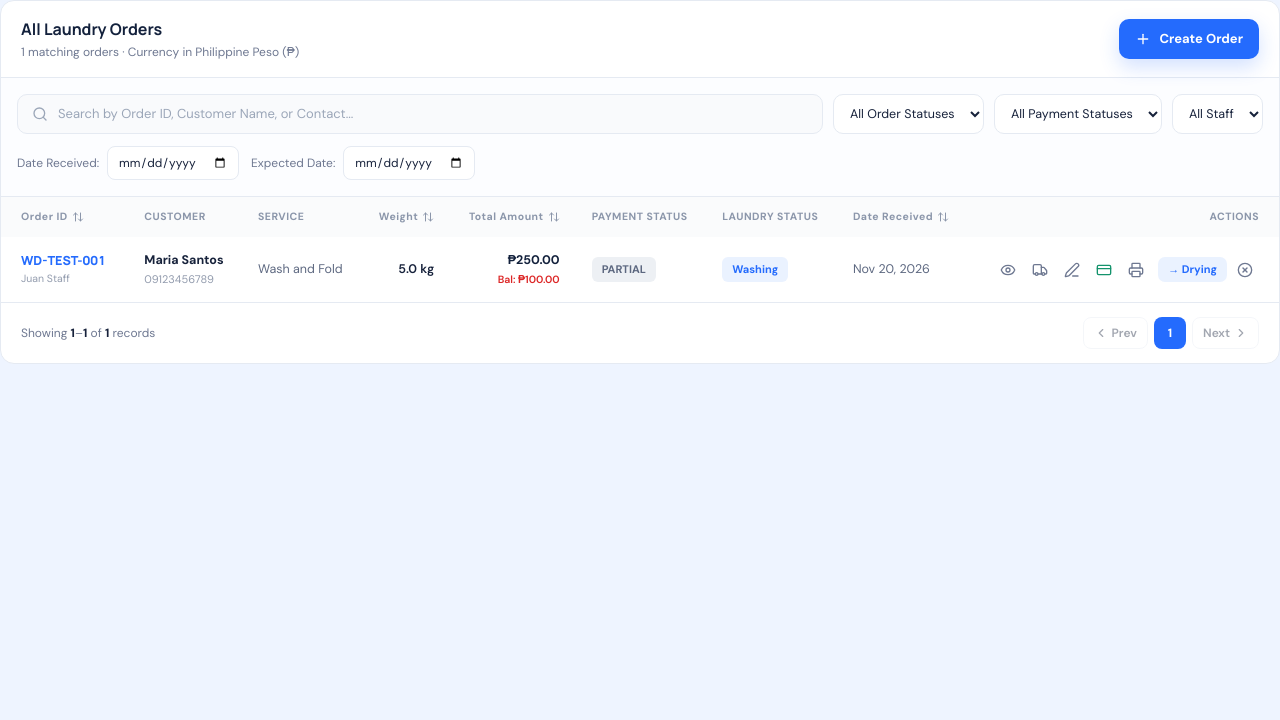
OrdersPage Component Tests › F-T2: should filter orders when the user types in the search field
Expected: the text "Maria Santos" is shown, [144,251,226,270]
In the field with placeholder "Search by Order ID, Customer Name, or Contact...": (433, 114) [58,104,808,124], type "No Matching Customer"
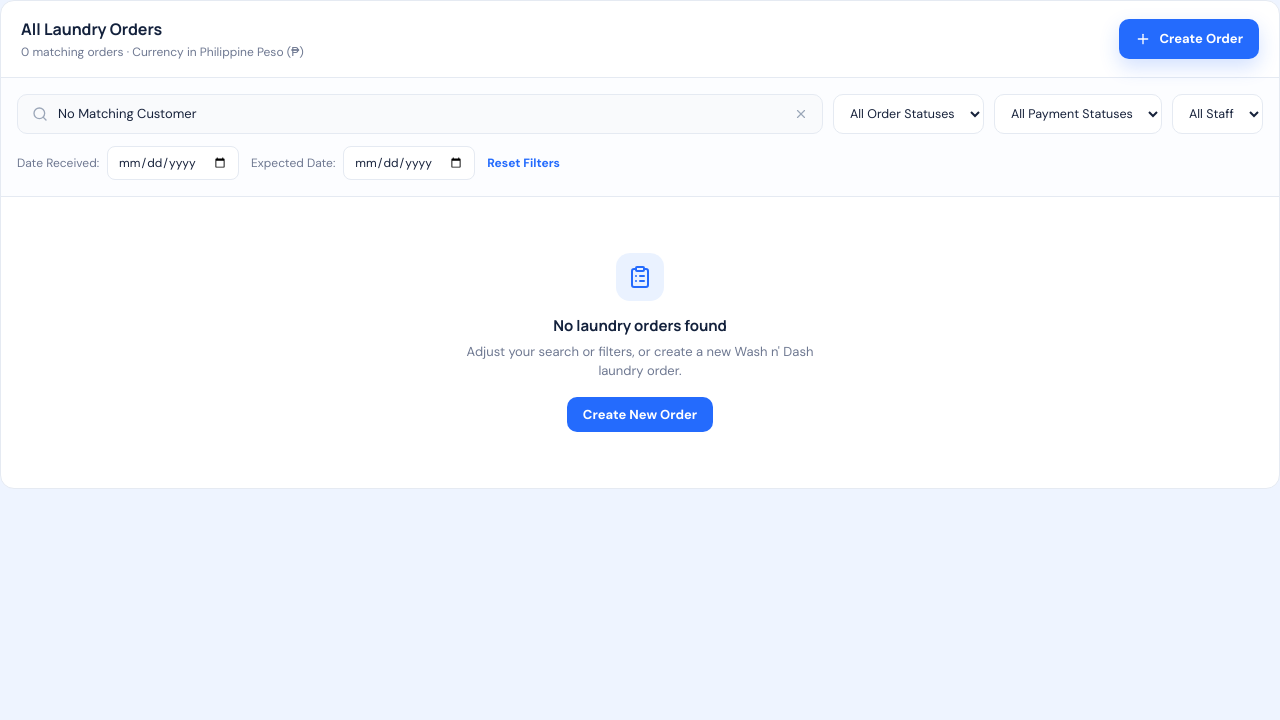
Expected: the text "Maria Santos" is gone
Expected: the heading "No laundry orders found" is shown, [553,315,727,338]
